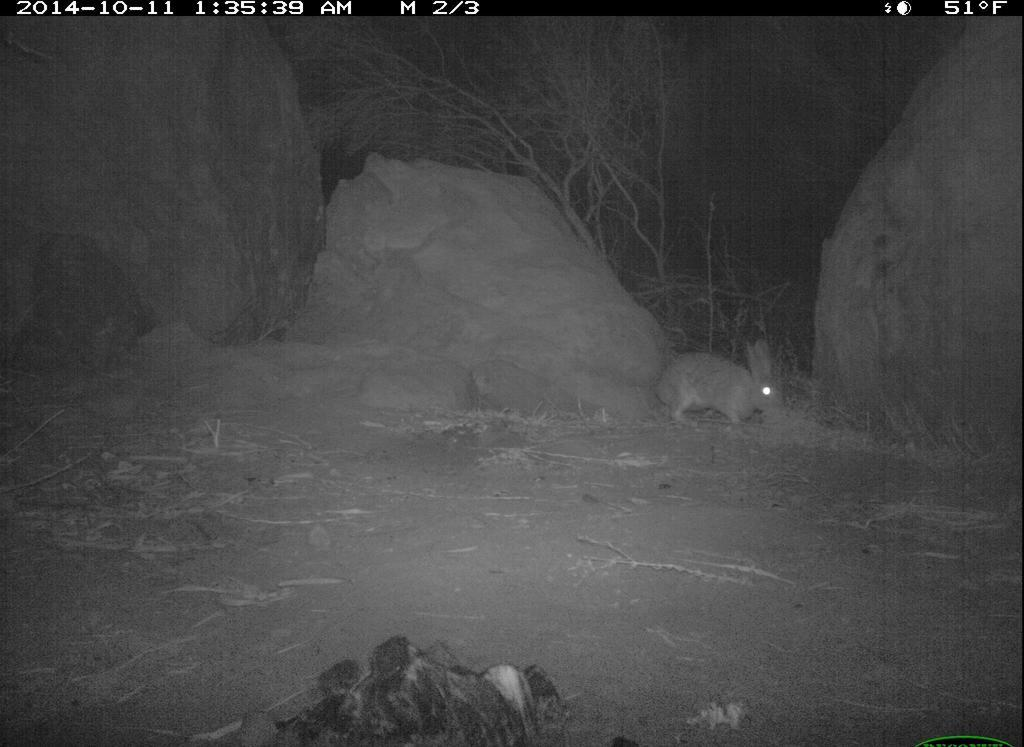rabbit: (658, 335, 790, 434)
